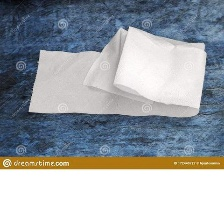tissue: (20, 22, 211, 122)
